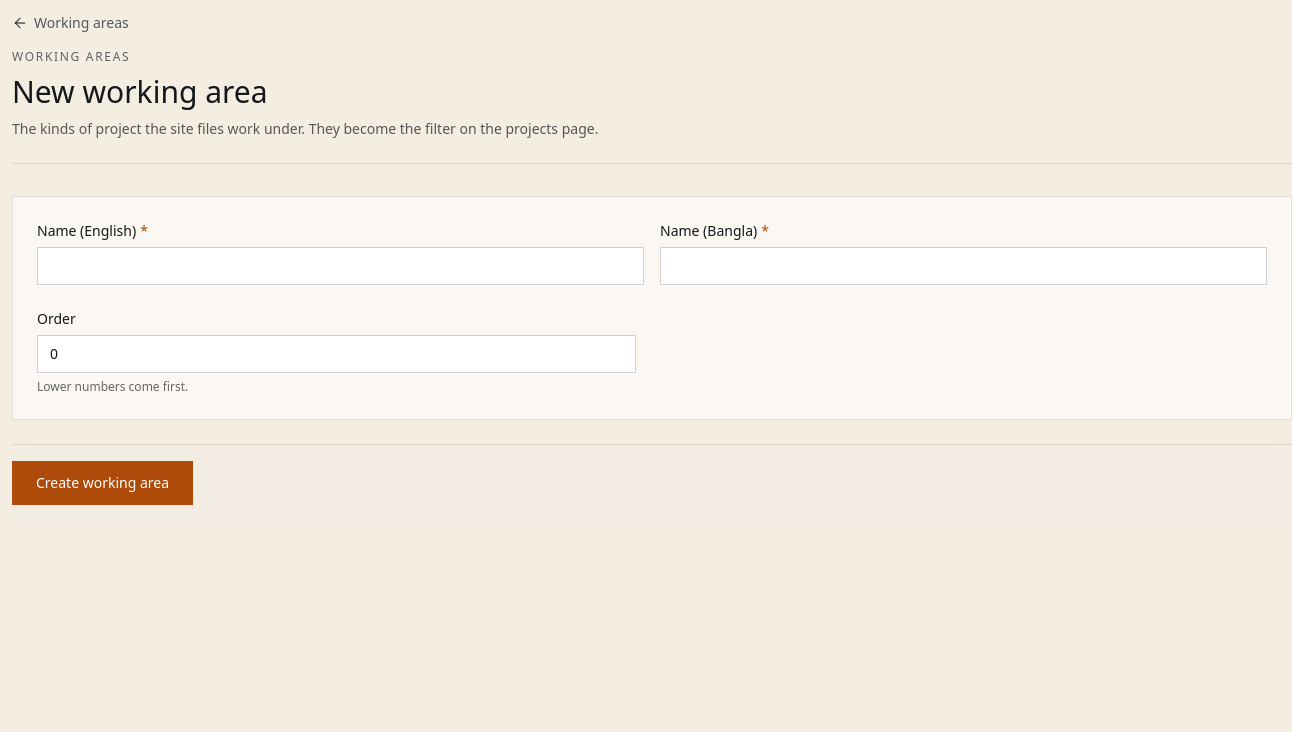
ResourceForm › refuses to send a half-filled form, and says which field
Type "Hospitality" into the field labelled "Name (English)".
click(340, 266); type("Hospitality")  # box [37,246,644,284]
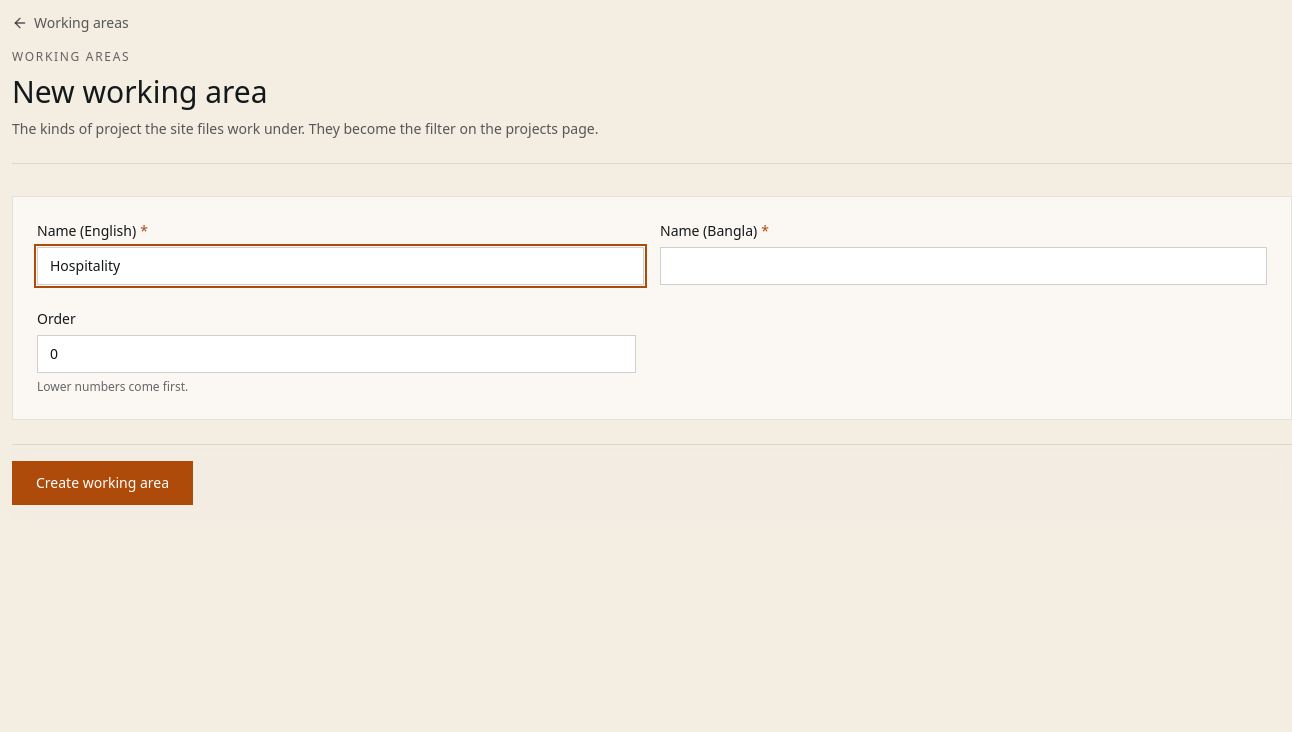
Click the button "Create working area".
click(102, 482)  # box [12,460,193,504]
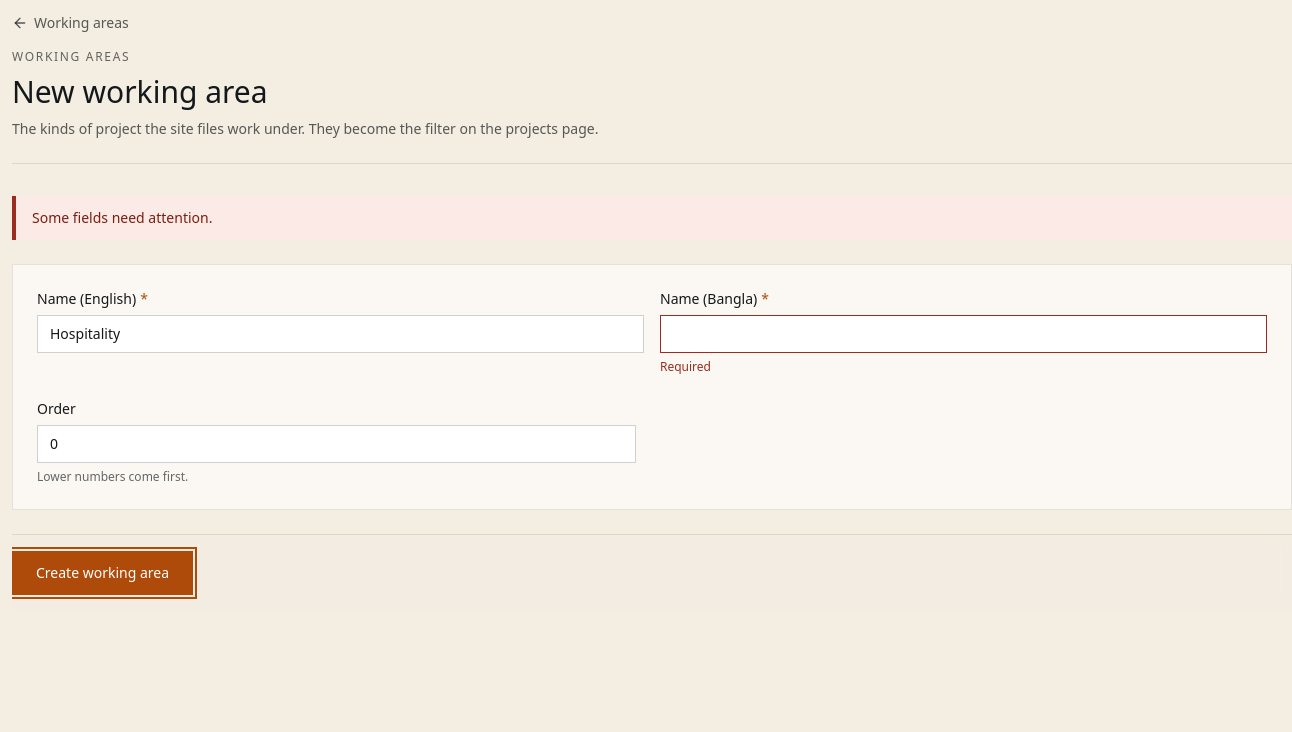
Expected: the text "Required" is shown, [660,358,711,374]
